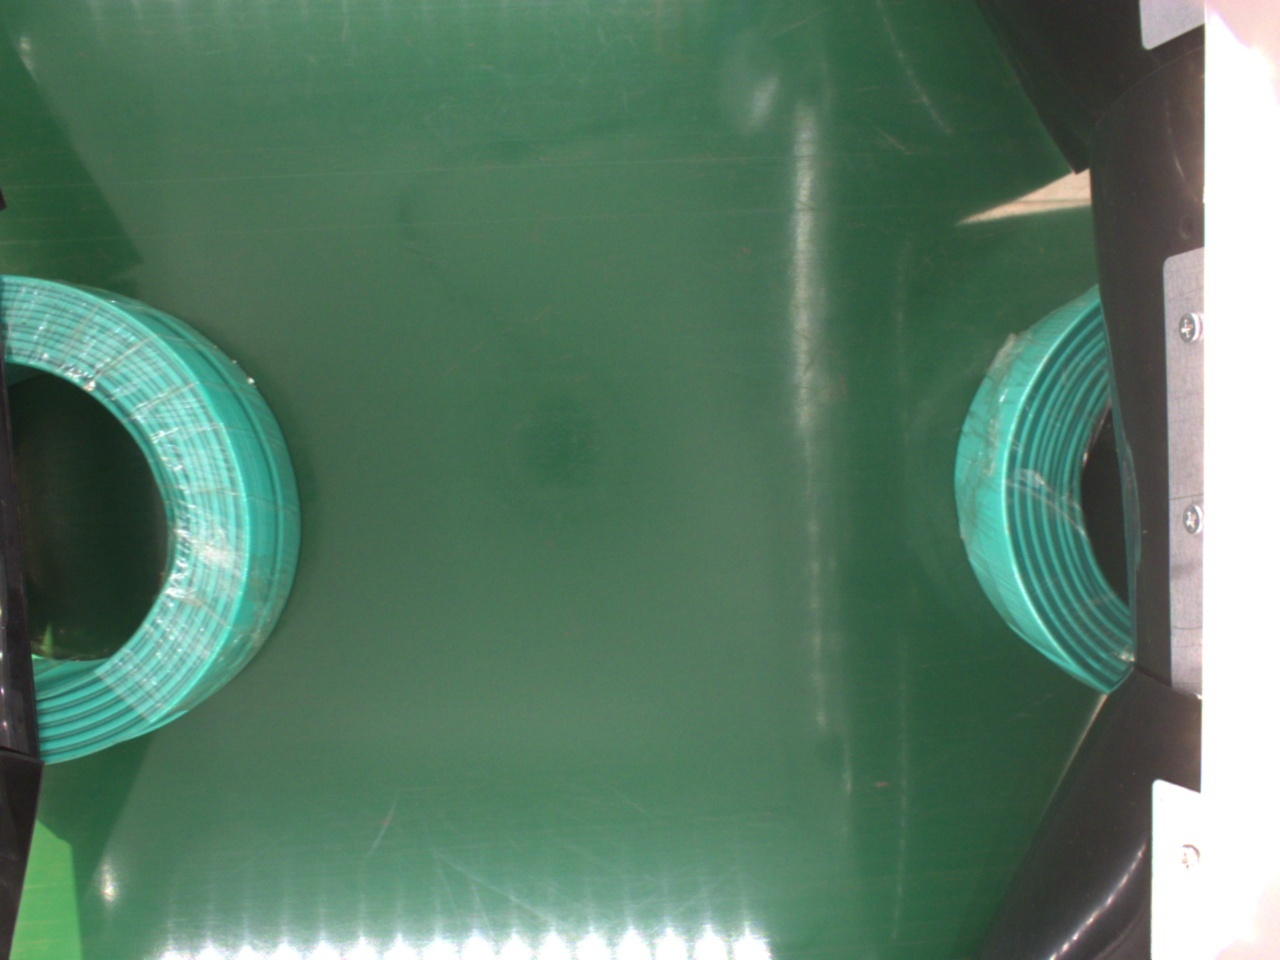green: (5, 268, 303, 762), (959, 290, 1131, 691)
